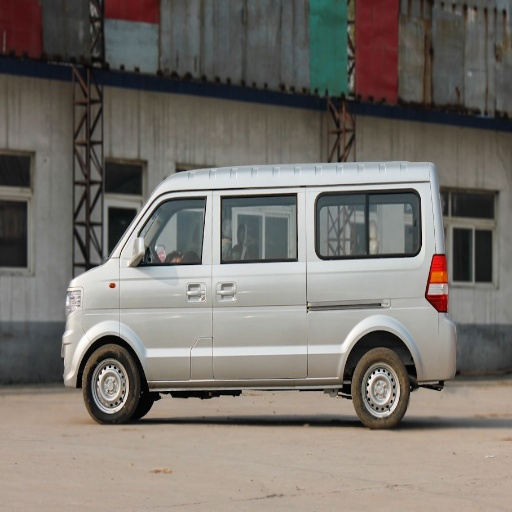back_left_door: (213, 191, 296, 356)
trunk: (247, 284, 441, 379)
